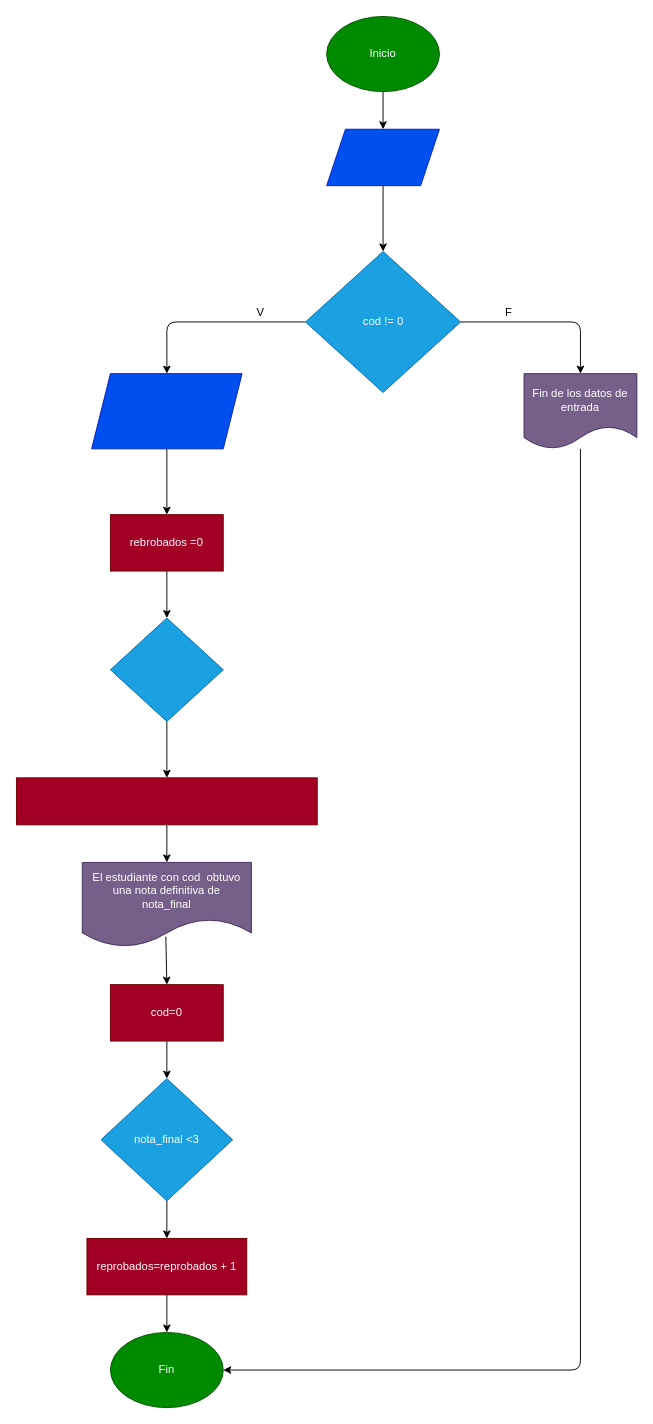
This 653x1424 diagram has some shape labels left out. Here are the shapes that lost their labels. From the top down, the centre of each, then its label:
(382,157): cod
(166,411): nota1 nota2 nota3 nota4 nota5
(166,669): cod !=0
(166,801): nota_final=(nota1 + nota2 + nota3 + nota4 + nota5)/5
